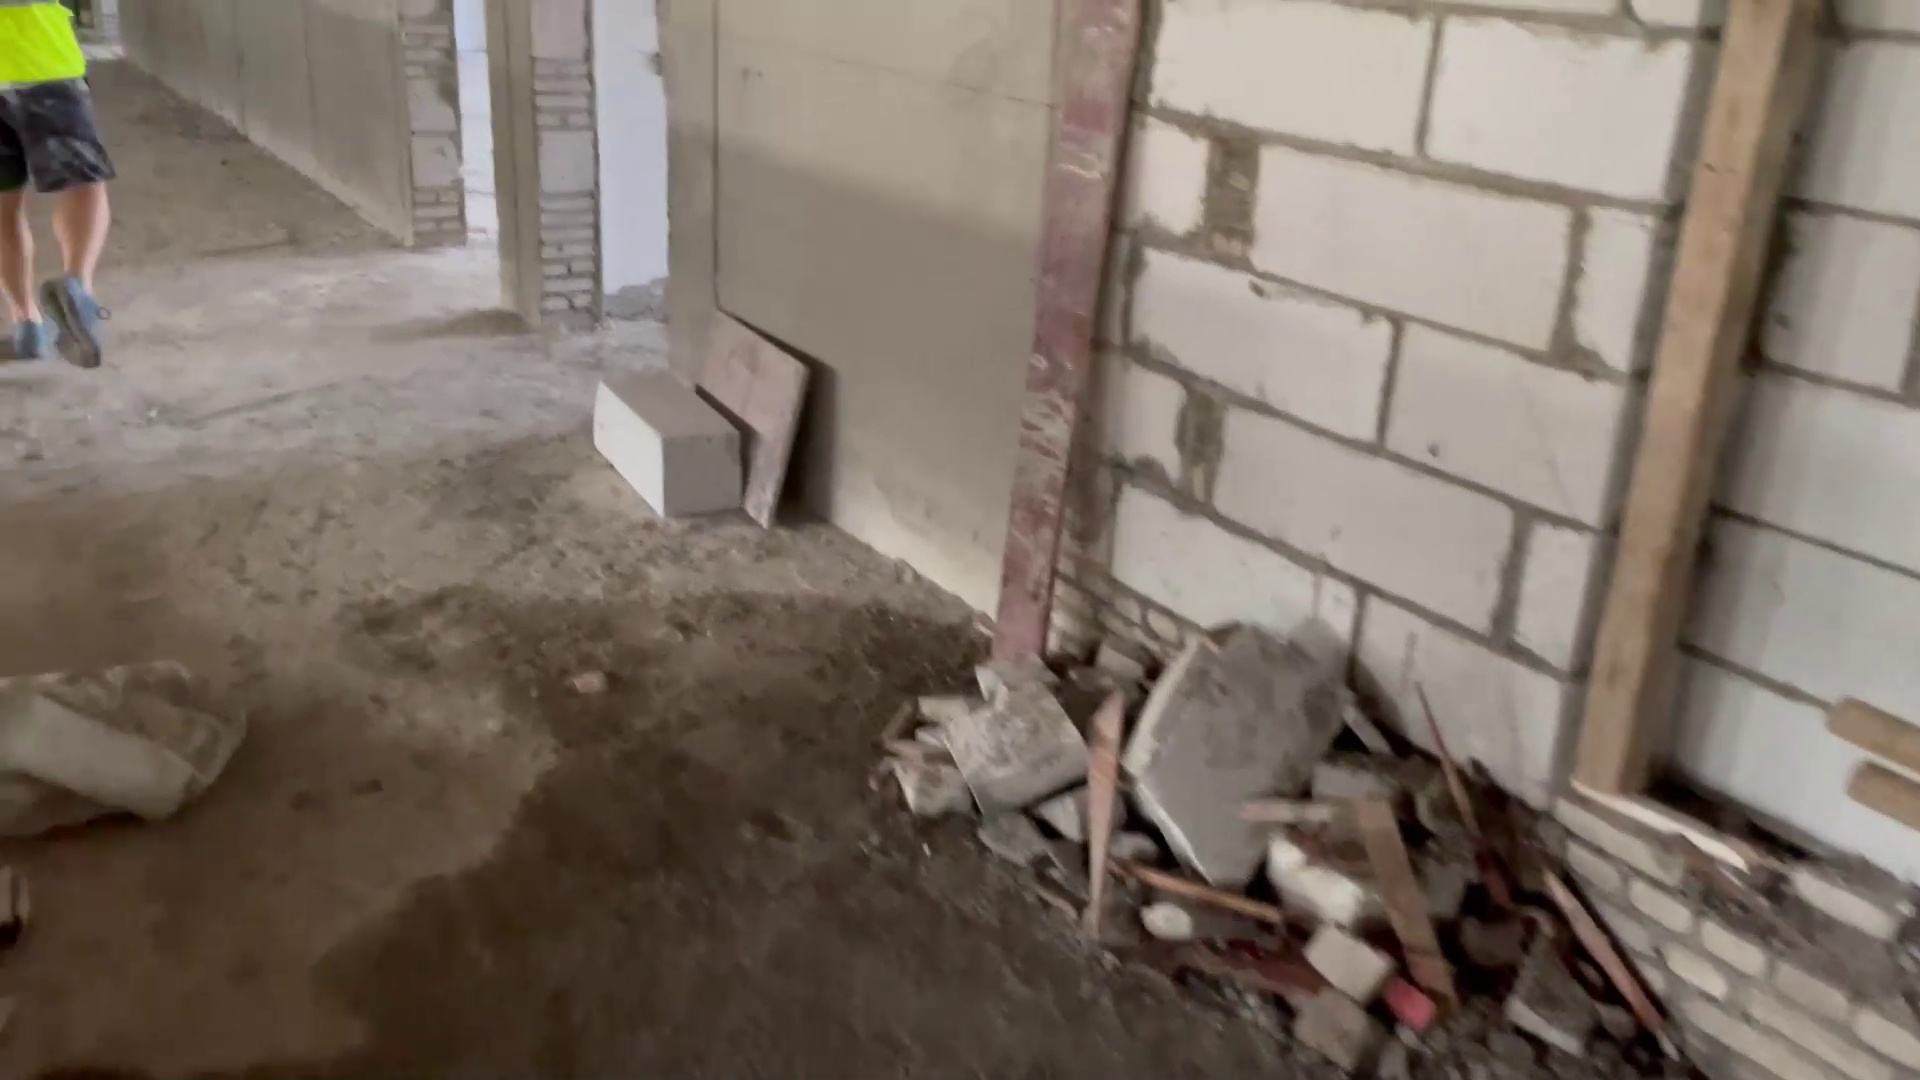person: (4, 1, 154, 374)
vest: (1, 1, 97, 89)
